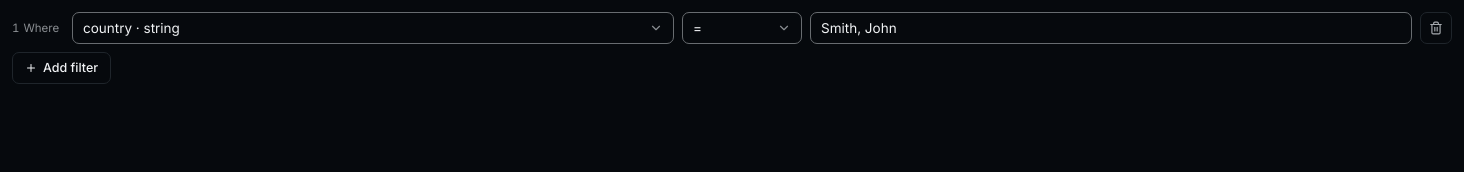
Test case: FactFilterEditor conditions (MET-32) › takes IN values one chip at a time, so a value may contain a comma
Step 1. Select "in" in the dropdown named "Filter 1 condition operator" → (742, 28), box [682,12,802,44]
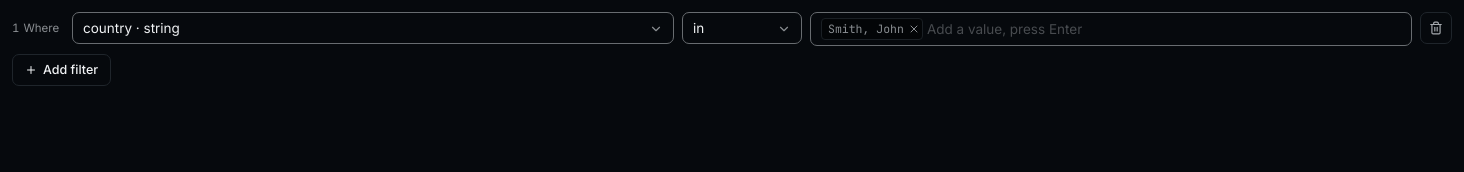
Check: the text "Smith, John" is shown, box [821,18,923,40]
Step 2. Type "Doe, Jane" into the field named "Filter 1 condition values" → (1164, 29), box [927,17,1401,41]
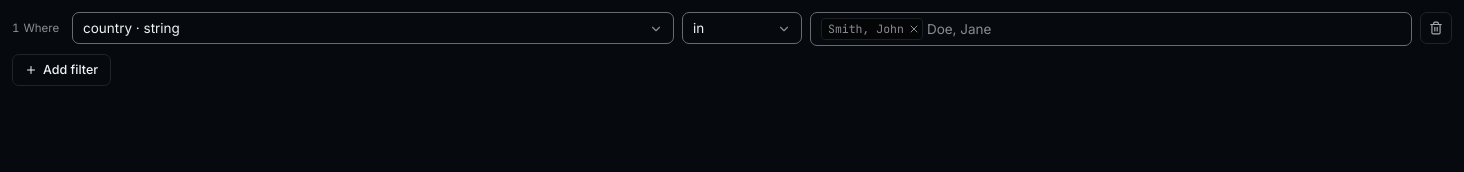
Step 3. Press Enter in the field named "Filter 1 condition values", box [927,17,1401,41]
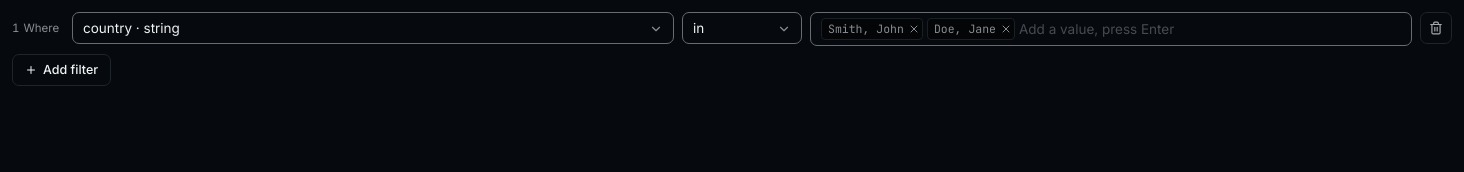
Check: the text "Doe, Jane" is shown, box [927,18,1015,40]
